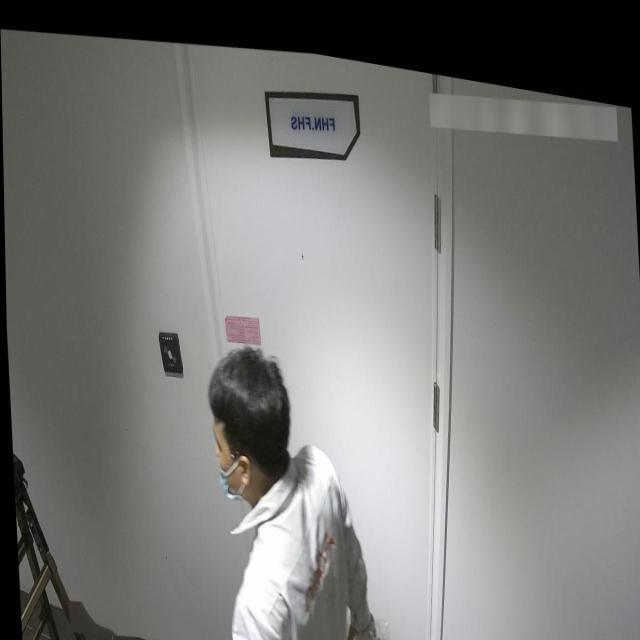hairnet: (211, 398, 241, 496)
